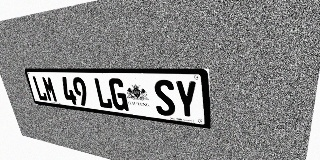4: (59, 77, 78, 105)
9: (71, 77, 90, 106)
G: (108, 78, 129, 111)
L: (93, 78, 113, 109), (32, 76, 48, 101)
M: (41, 76, 58, 103)
S: (153, 79, 176, 117)
Y: (174, 80, 198, 120)
